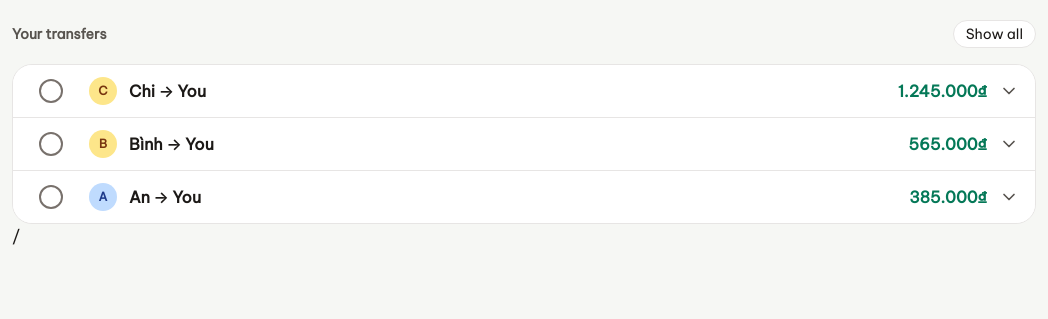
Test: Your transfers: the rows › still switches when the browser blocks storage
Click the button "Show all" at x=990, y=34, box [945,12,1036,56]
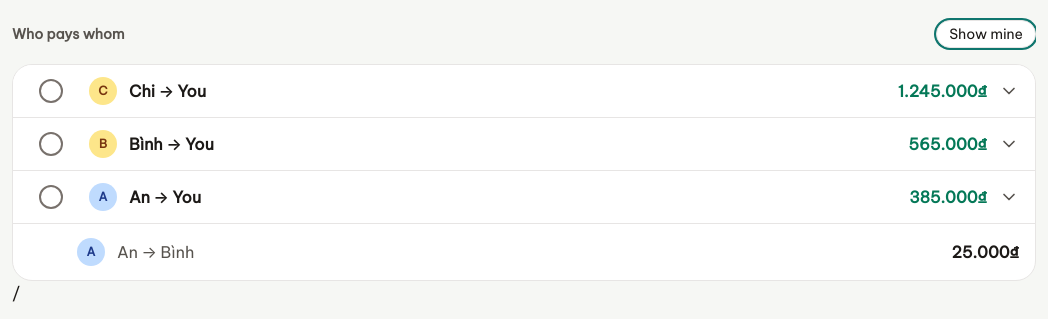
Check: the heading "Who pays whom" is shown, box [12,24,124,44]
